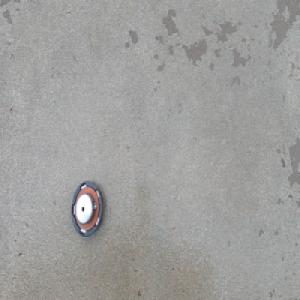FuelCap: (70, 178, 103, 240)
